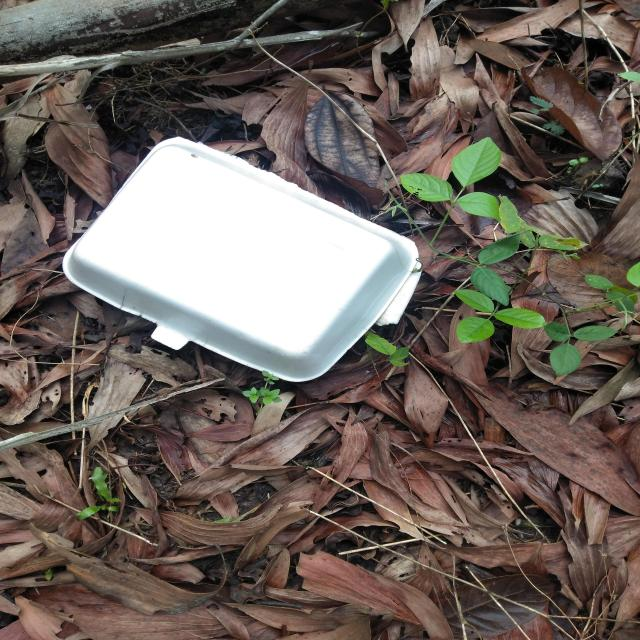litter: (58, 132, 427, 389)
